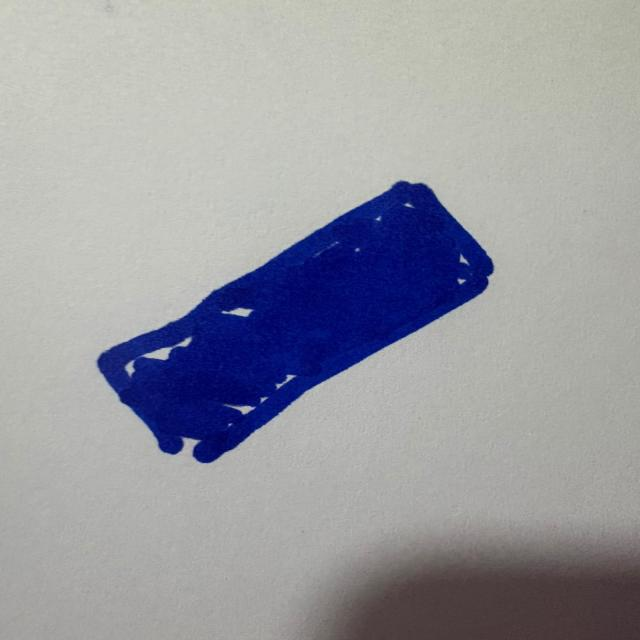Rectangle: (98, 182, 493, 463)
